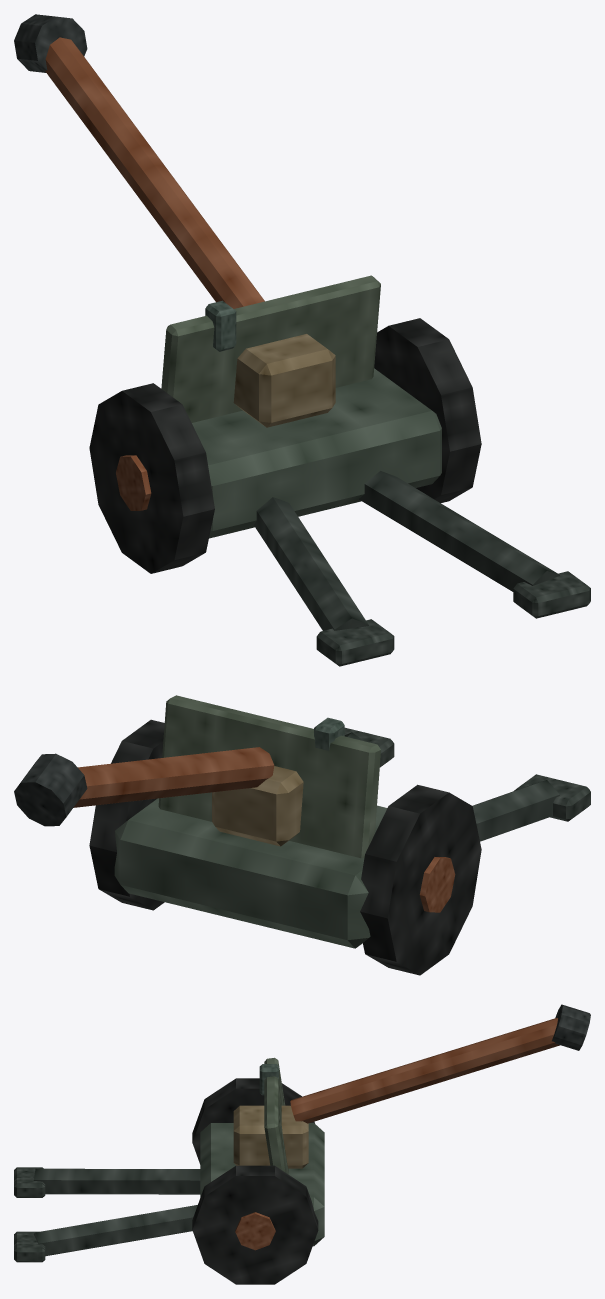
Rendered from MR_TowedArtillery.fbx.
3 renders of one model, top to bottom at view 1: azimuth 30°, elevation 25°; view 2: azimuth 150°, elevation 25°; view 3: azimuth 270°, elevation 25°, orthographic. The views are drawn at different scales.
Parts seen in each view (by area): view 1: MR_TowedArtillery; view 2: MR_TowedArtillery; view 3: MR_TowedArtillery.
Part boxes in pixels (<box>): MR_TowedArtillery: <box>14,14,590,666</box>; MR_TowedArtillery: <box>14,695,590,975</box>; MR_TowedArtillery: <box>14,1004,590,1284</box>.
Bounding box in the file's own units: 2.74 × 2.9 × 6.6.
1 material, 1 textured.
